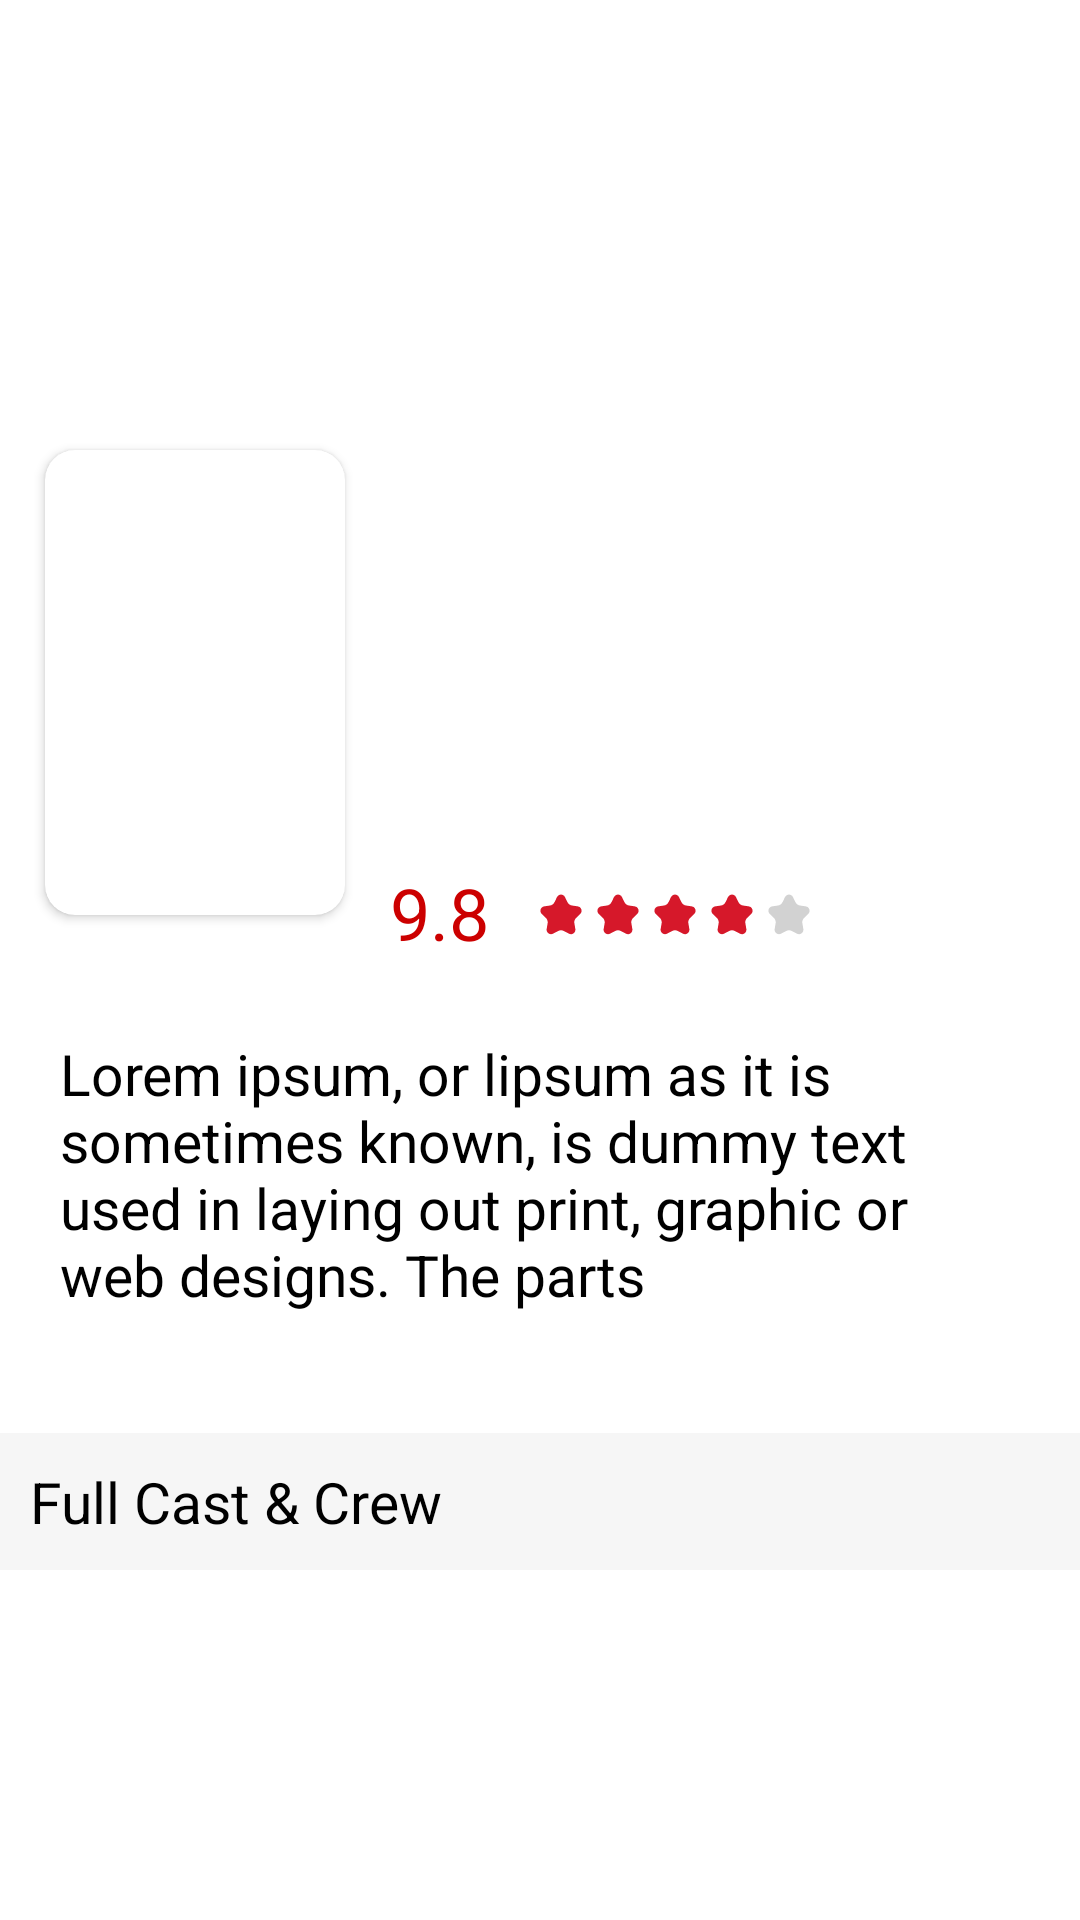

Screen size 1080*1920. Icon name, then its box in pixels as (x1, y1, x2, y2):
icstar: (769, 895, 809, 934)
icstarselected: (540, 894, 582, 935), (597, 894, 639, 935), (654, 894, 696, 935), (711, 894, 753, 935)
